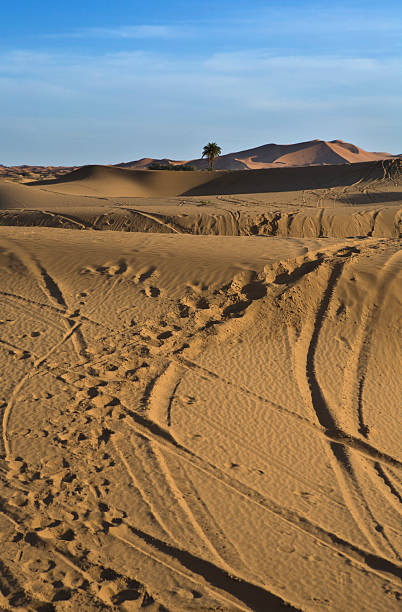human_foot_print: (90, 580, 135, 608), (62, 537, 92, 575), (36, 462, 76, 487), (29, 498, 56, 534), (41, 578, 68, 606), (137, 327, 164, 351), (15, 587, 35, 612), (85, 384, 108, 404), (100, 369, 129, 384), (165, 305, 188, 323), (62, 422, 82, 442), (195, 286, 208, 314)
